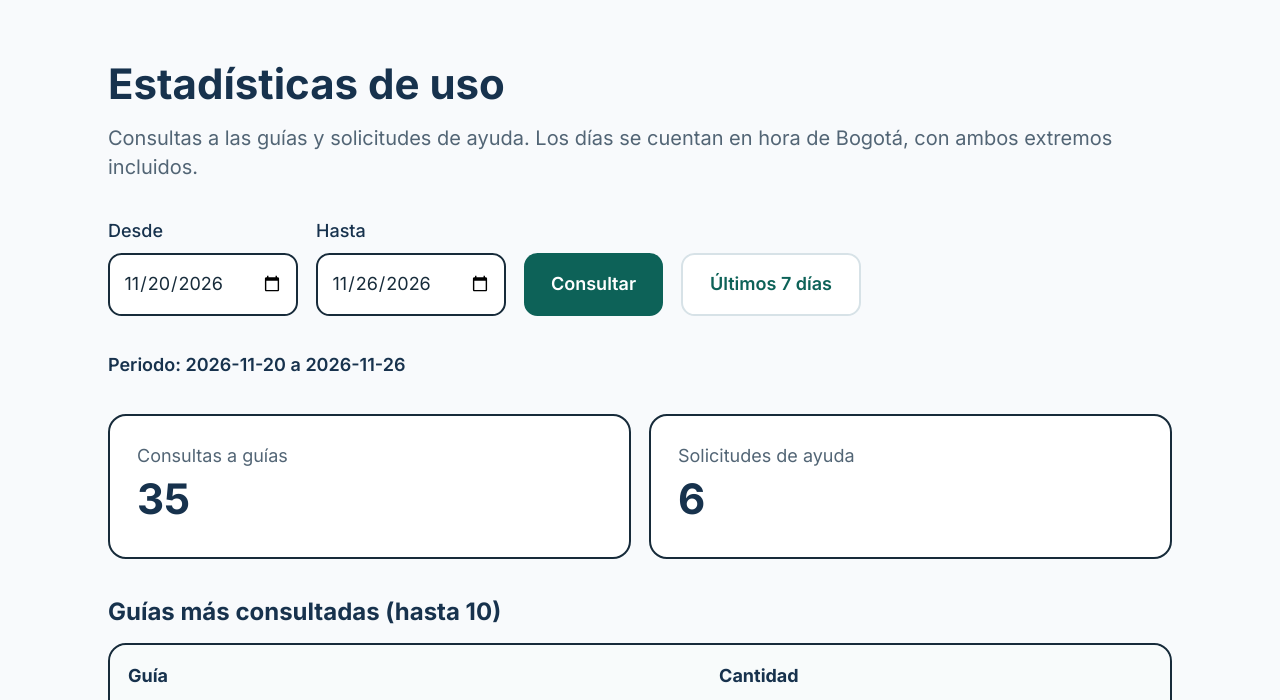
Scenario: EstadisticasPage (HU-31 · C-11) › periodo inválido: avisa en pantalla y no consulta al servidor
Expected: the text "Periodo: 2026-11-20 a 2026-11-26" is shown, [108, 354, 406, 375]
In the date field labelled "Desde": (203, 284) [108, 253, 298, 316], type "2026-11-30"
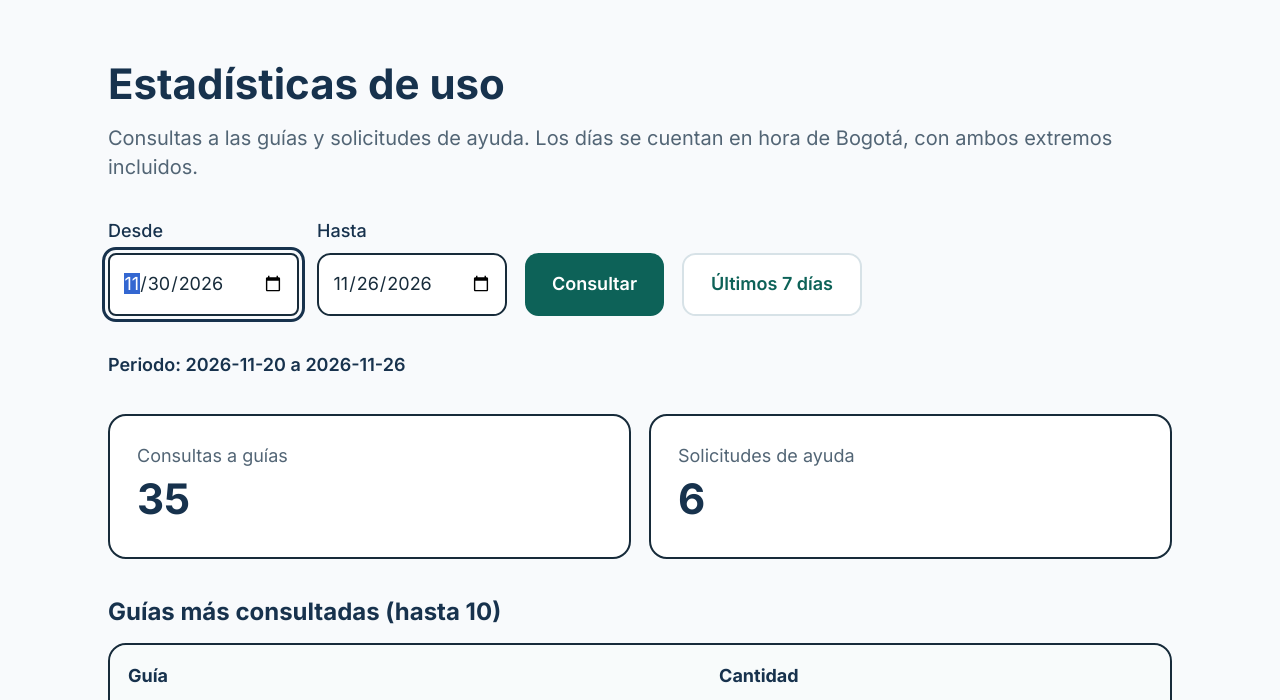
Click the button "Consultar": (594, 284) [525, 253, 664, 316]
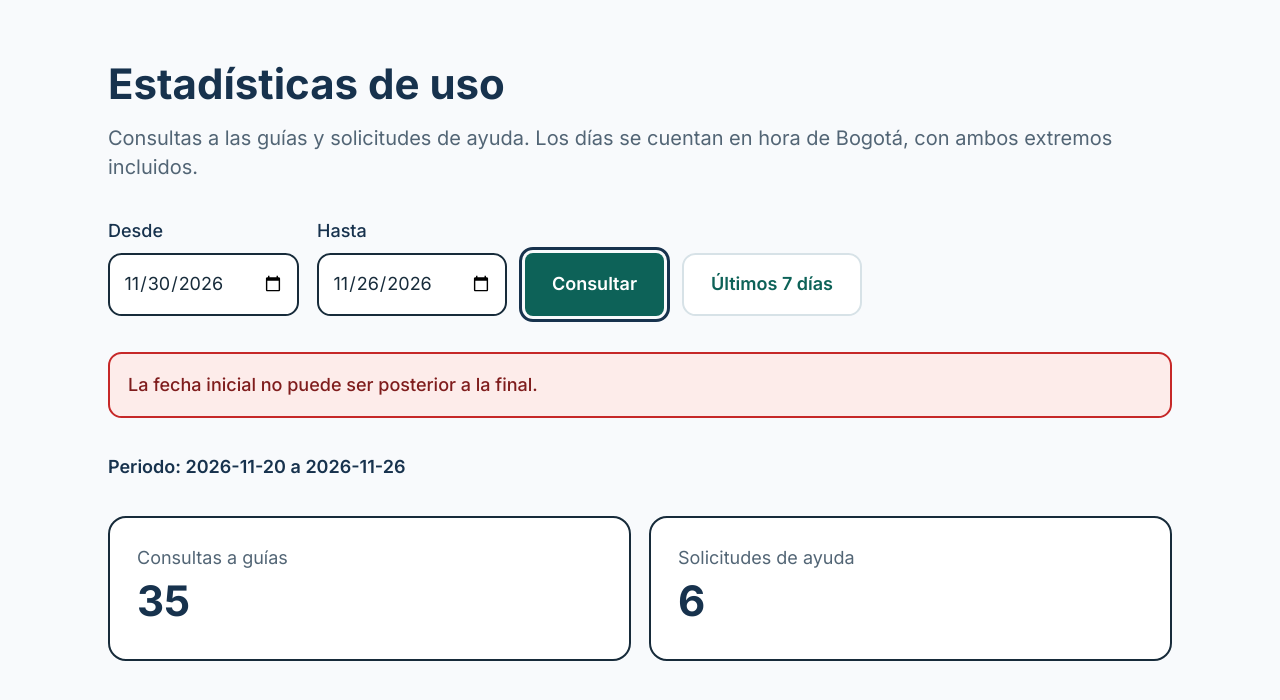
Result: the message shows "posterior" at [128, 374, 538, 395]
